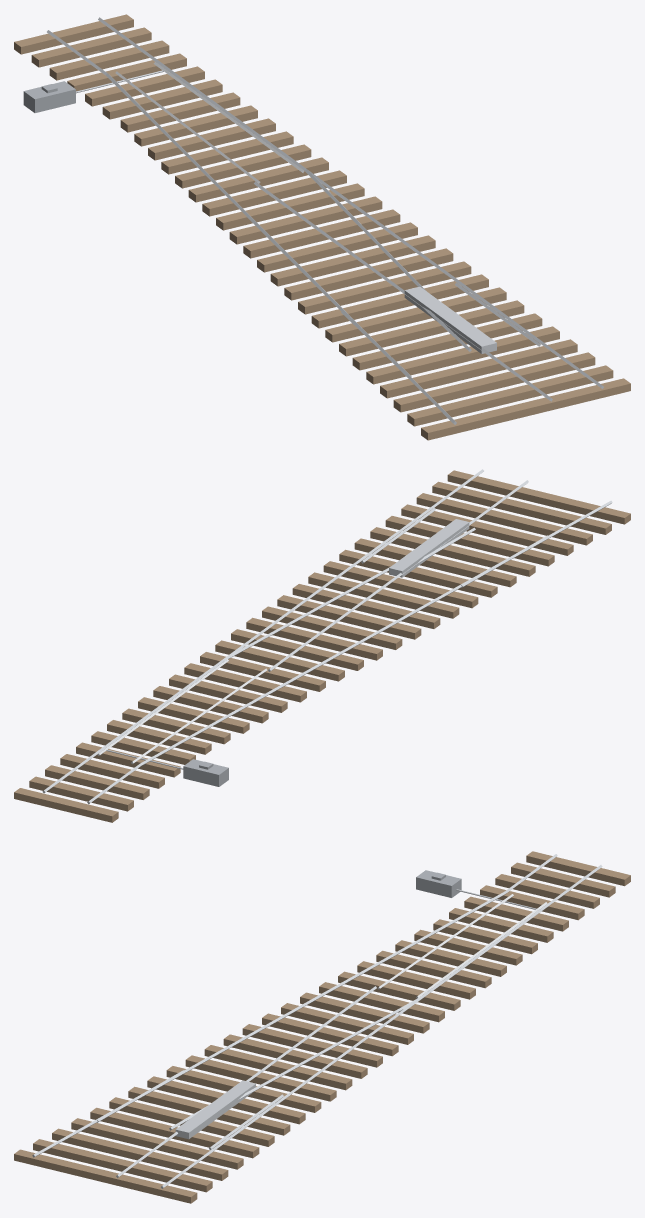
Rendered from modele.glb.
3 renders of one model, top to bottom at view 1: azimuth 30°, elevation 25°; view 2: azimuth 150°, elevation 25°; view 3: azimuth 330°, elevation 25°, orthographic. The views are drawn at different scales.
Parts seen in each view (by area): view 1: traverses, rail_contre_droit, coeur, rail_contre_gauche, moteur_aiguille, rail_droit_interieur, rail_devie, contre_rails; view 2: traverses, rail_contre_gauche, rail_contre_droit, coeur, moteur_aiguille, rail_droit_interieur, rail_devie, contre_rails; view 3: traverses, rail_contre_gauche, rail_contre_droit, coeur, moteur_aiguille, rail_droit_interieur, rail_devie, contre_rails.
Part boxes in pixels (<box>): traverses: <box>14,14,630,440</box>; rail_contre_droit: <box>98,17,603,388</box>; coeur: <box>404,286,496,353</box>; rail_contre_gauche: <box>47,30,456,424</box>; moteur_aiguille: <box>23,81,75,112</box>; rail_droit_interieur: <box>254,181,552,401</box>; rail_devie: <box>305,169,425,290</box>; contre_rails: <box>341,282,540,376</box>; traverses: <box>14,470,630,822</box>; rail_contre_gauche: <box>87,500,612,804</box>; rail_contre_droit: <box>42,469,483,793</box>; coeur: <box>389,519,475,577</box>; moteur_aiguille: <box>183,759,228,786</box>; rail_droit_interieur: <box>268,480,528,671</box>; rail_devie: <box>225,567,389,659</box>; contre_rails: <box>361,508,547,587</box>; traverses: <box>14,851,630,1203</box>; rail_contre_gauche: <box>32,854,557,1157</box>; rail_contre_droit: <box>161,865,602,1188</box>; coeur: <box>169,1080,255,1139</box>; moteur_aiguille: <box>416,870,461,897</box>; rail_droit_interieur: <box>116,986,376,1177</box>; rail_devie: <box>238,998,418,1099</box>; contre_rails: <box>97,1070,283,1150</box>.
Bounding box in the file's own units: 3.96 × 0.435 × 17.12.
